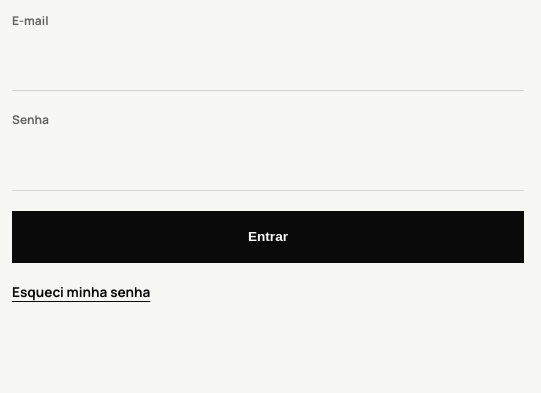
IdentityForm › não navega e mostra uma falha de credenciais sem detalhe interno
Type "ana@example.test" into the field labelled "E-mail" at (268, 65), box 12,38 -> 524,91
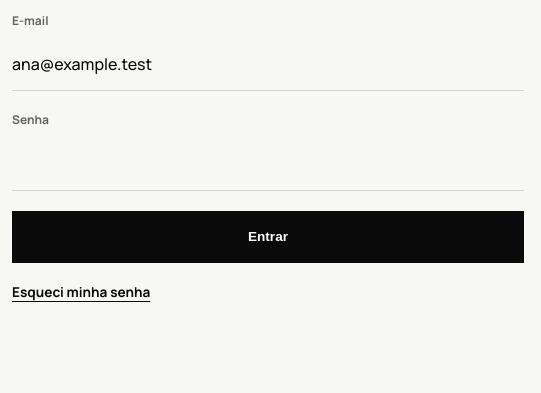
Type "senha incorreta" into the password field labelled "Senha" at (268, 164), box 12,137 -> 524,191
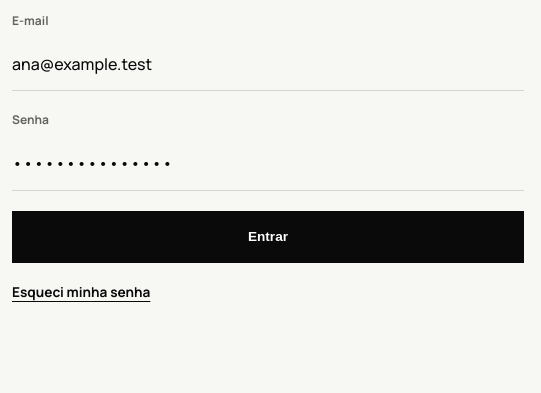
Click the button "Entrar" at (268, 237), box 12,211 -> 524,263
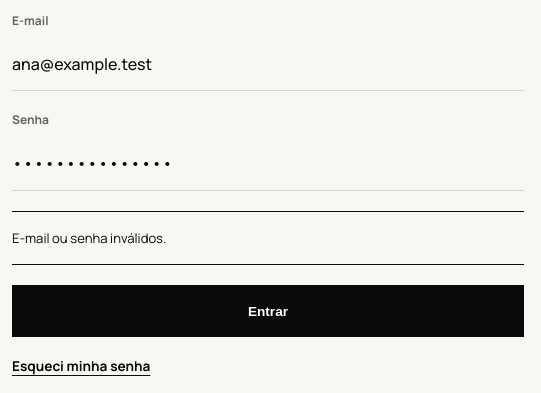
Check: the message reads "E-mail ou senha inválidos.", box 12,229 -> 166,247
